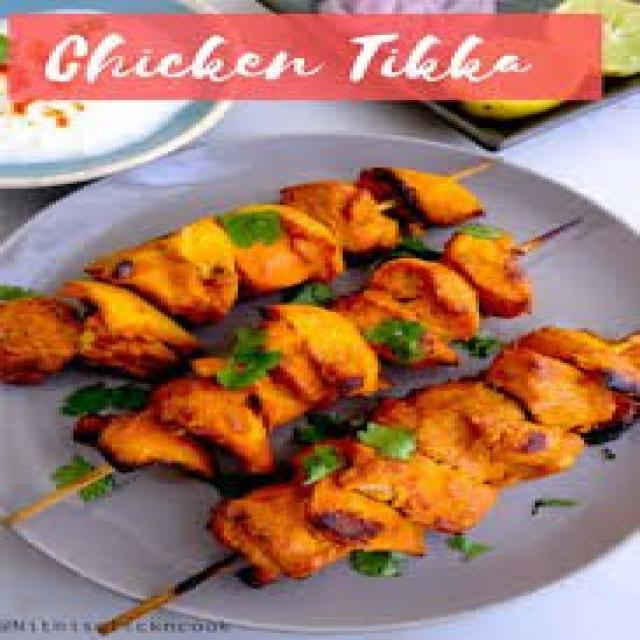Chicken Tikka: (0, 160, 640, 592)
